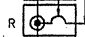Single Phase Tap-Off Unit: (20, 2, 77, 37)
